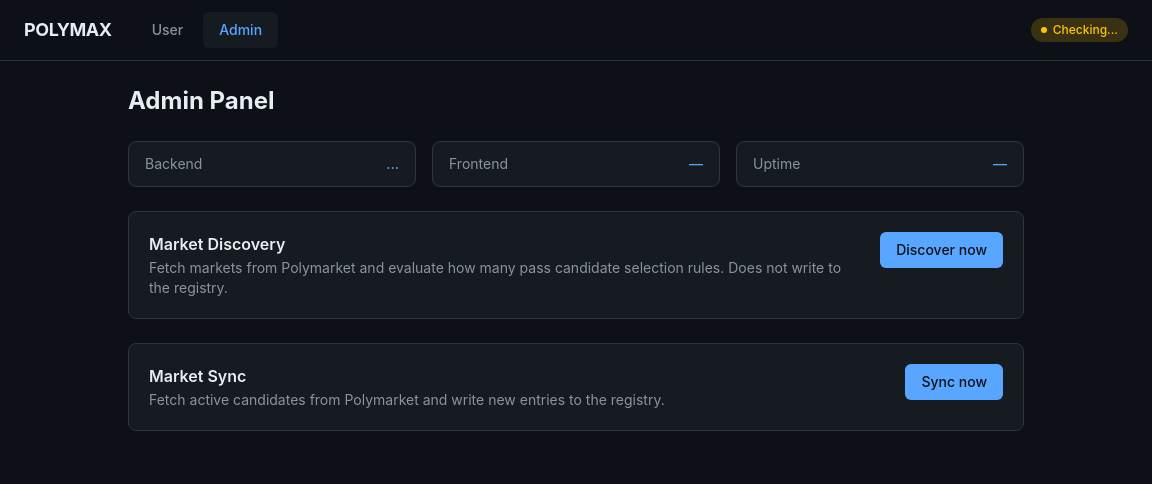
DiscoverAction › shows loading state while discovery is in progress
Step 1. Click the button "Discover now" → (942, 250), box [880,232,1003,268]
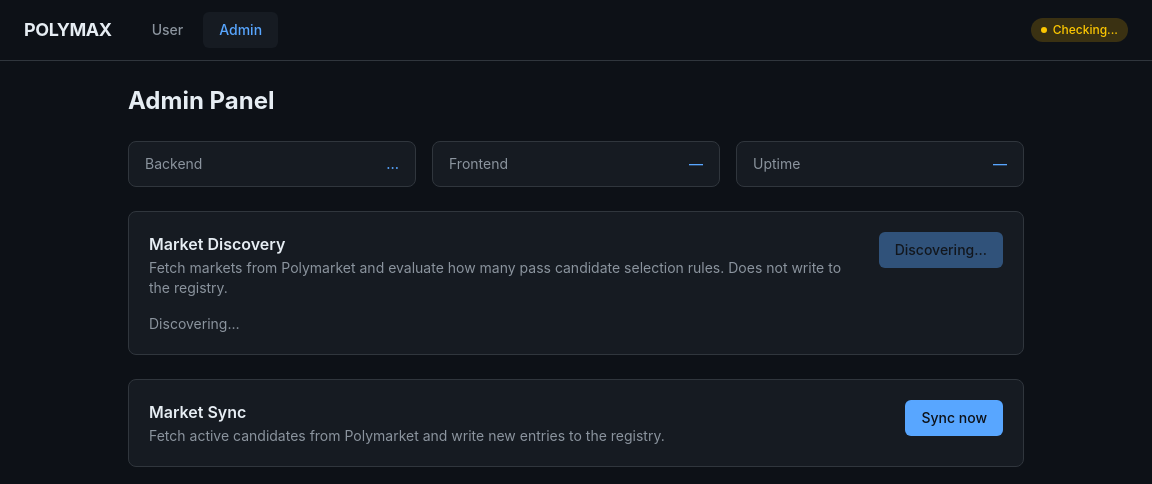
Now the message named "discovery in progress" is shown, box [149,315,240,332]
